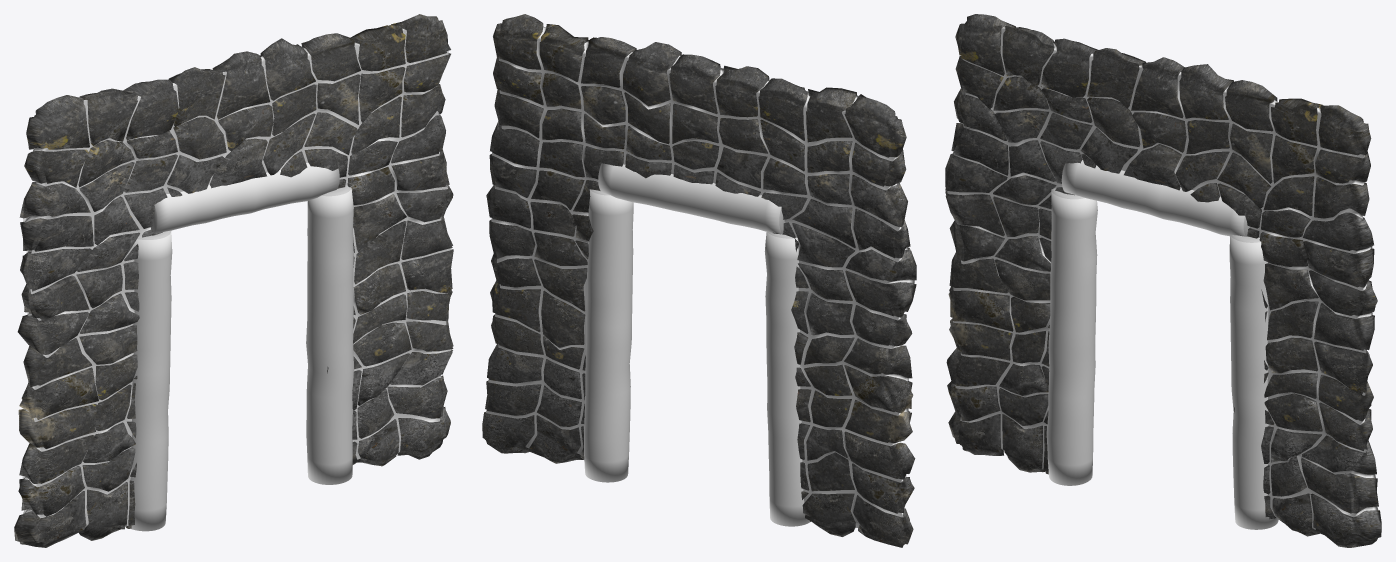
File: StoneWallDoor.fbx
3 views of the same model, side by side, from view 1: azimuth 30°, elevation 25°; view 2: azimuth 150°, elevation 25°; view 3: azimuth 330°, elevation 25° (orthographic).
Parts seen in each view (by area): view 1: Cube, Log.001, Log.002, Log.017; view 2: Cube, Log.001, Log.002, Log.017; view 3: Cube, Log.002, Log.001, Log.017.
Part boxes in pixels (left/top/right/bottom): Cube: left=14, top=14, right=453, bottom=547; Log.001: left=306, top=185, right=353, bottom=484; Log.002: left=130, top=230, right=172, bottom=531; Log.017: left=150, top=162, right=339, bottom=233; Cube: left=482, top=14, right=916, bottom=547; Log.001: left=584, top=189, right=633, bottom=482; Log.002: left=764, top=232, right=809, bottom=526; Log.017: left=598, top=163, right=784, bottom=234; Cube: left=945, top=14, right=1381, bottom=547; Log.002: left=1046, top=188, right=1097, bottom=485; Log.001: left=1229, top=235, right=1278, bottom=529; Log.017: left=1061, top=160, right=1249, bottom=236.
Bounding box in the file's own units: 300 × 300 × 31.15.
